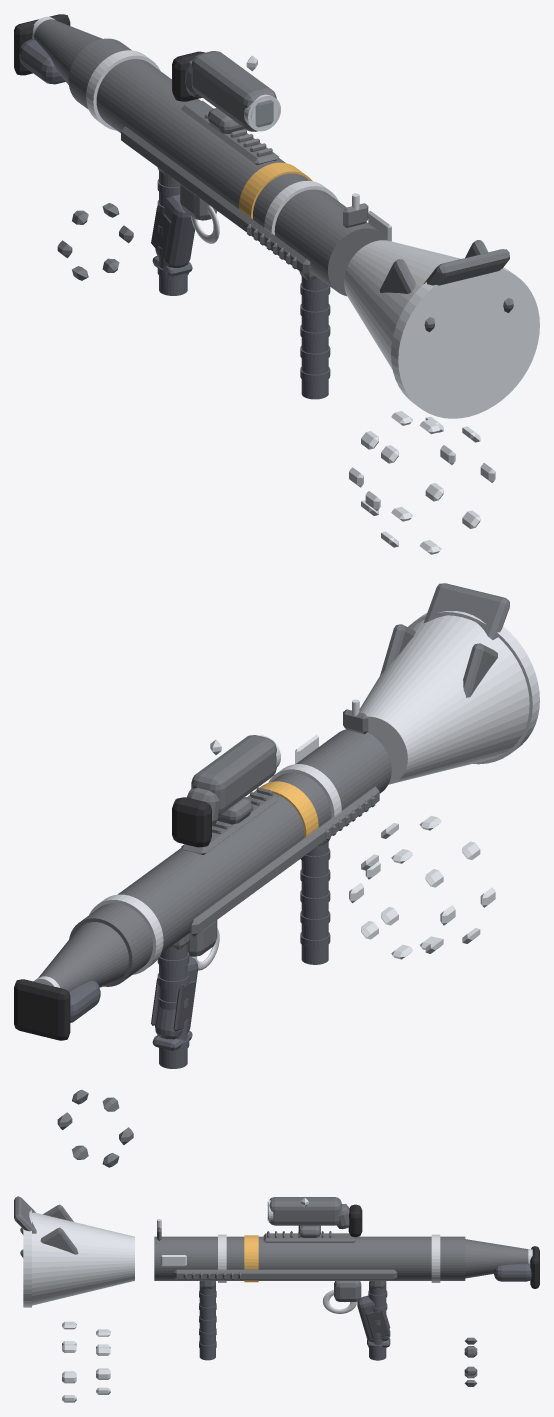
File: wep_tank.glb
3 views of the same model, one above another, from view 1: azimuth 30°, elevation 25°; view 2: azimuth 150°, elevation 25°; view 3: azimuth 270°, elevation 25° (orthographic). The views are drawn at different scales.
Parts seen in each view (by area): view 1: wep_tank_bell_mouth, wep_tank_tube, wep_tank_bell_lip, wep_tank_optic_housing, wep_tank_hand_rail_l, wep_tank_grip_front_sleeve, wep_tank_venturi, wep_tank_blast_plate, wep_tank_pistol_grip, wep_tank_stripe_band, wep_tank_tube_band_rear, wep_tank_top_rail_base (+9 smaller); view 2: wep_tank_bell_mouth, wep_tank_tube, wep_tank_venturi, wep_tank_optic_housing, wep_tank_hand_rail_l, wep_tank_shoulder_face, wep_tank_blast_plate, wep_tank_grip_front_sleeve, wep_tank_bell_lip, wep_tank_optic_eyecup, wep_tank_grip_rear_sleeve, wep_tank_tube_band_rear (+9 smaller); view 3: wep_tank_tube, wep_tank_bell_mouth, wep_tank_hand_rail_r, wep_tank_optic_housing, wep_tank_venturi, wep_tank_grip_front_sleeve, wep_tank_top_rail_base, wep_tank_bell_lip, wep_tank_shoulder_rest, wep_tank_stripe_band, wep_tank_trigger_block, wep_tank_blast_wing_r (+12 smaller).
Part boxes in pixels (x1,y1,x2,y2): wep_tank_bell_mouth: [344, 240, 539, 418]; wep_tank_tube: [68, 38, 387, 296]; wep_tank_bell_lip: [391, 267, 539, 418]; wep_tank_optic_housing: [191, 51, 276, 131]; wep_tank_hand_rail_l: [121, 126, 310, 276]; wep_tank_grip_front_sleeve: [301, 276, 328, 399]; wep_tank_venturi: [34, 19, 102, 84]; wep_tank_blast_plate: [423, 249, 509, 285]; wep_tank_pistol_grip: [155, 194, 194, 267]; wep_tank_stripe_band: [239, 162, 312, 218]; wep_tank_tube_band_rear: [86, 50, 160, 130]; wep_tank_top_rail_base: [181, 100, 278, 164]; wep_tank_bell_mouth: [359, 615, 529, 784]; wep_tank_tube: [69, 729, 391, 986]; wep_tank_venturi: [37, 922, 128, 991]; wep_tank_optic_housing: [191, 735, 276, 815]; wep_tank_hand_rail_l: [189, 786, 379, 936]; wep_tank_shoulder_face: [14, 979, 70, 1040]; wep_tank_blast_plate: [423, 583, 509, 640]; wep_tank_grip_front_sleeve: [301, 842, 328, 964]; wep_tank_bell_lip: [408, 611, 539, 764]; wep_tank_optic_eyecup: [172, 797, 211, 847]; wep_tank_grip_rear_sleeve: [159, 944, 187, 1068]; wep_tank_tube_band_rear: [89, 894, 163, 974]; wep_tank_tube: [154, 1236, 465, 1280]; wep_tank_bell_mouth: [32, 1212, 134, 1305]; wep_tank_hand_rail_r: [174, 1269, 397, 1280]; wep_tank_optic_housing: [268, 1197, 341, 1225]; wep_tank_venturi: [465, 1239, 528, 1278]; wep_tank_grip_front_sleeve: [199, 1281, 215, 1360]; wep_tank_top_rail_base: [263, 1233, 355, 1242]; wep_tank_bell_lip: [23, 1210, 31, 1307]; wep_tank_shoulder_rest: [494, 1263, 531, 1281]; wep_tank_stripe_band: [244, 1235, 258, 1282]; wep_tank_trigger_block: [334, 1281, 361, 1301]; wep_tank_blast_wing_r: [20, 1227, 78, 1257].
Bounding box in the file's own units: 0.202 × 0.4731 × 1.08.
